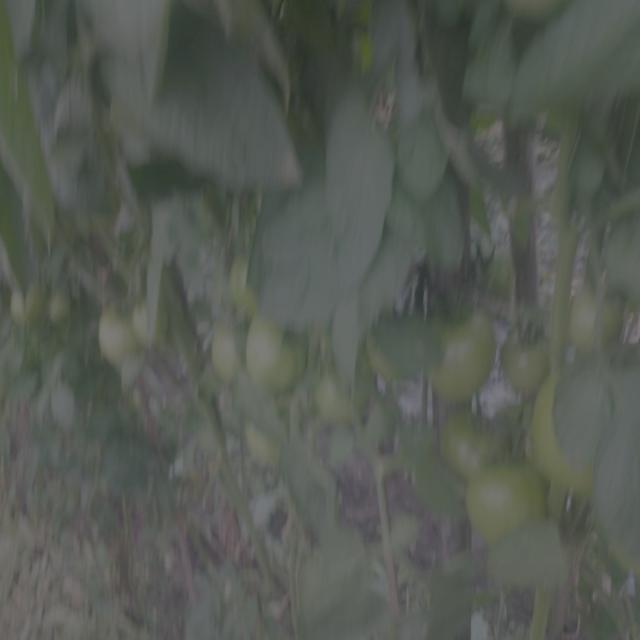tomato: (535, 382, 610, 487), (428, 296, 496, 403), (453, 465, 547, 540), (568, 272, 633, 360), (435, 402, 506, 471), (247, 319, 307, 393), (502, 317, 550, 391), (219, 244, 269, 312), (368, 319, 419, 384), (205, 319, 245, 383), (239, 418, 287, 471), (314, 366, 358, 421), (6, 268, 41, 328), (129, 303, 169, 352), (93, 294, 117, 355), (45, 286, 76, 330)
